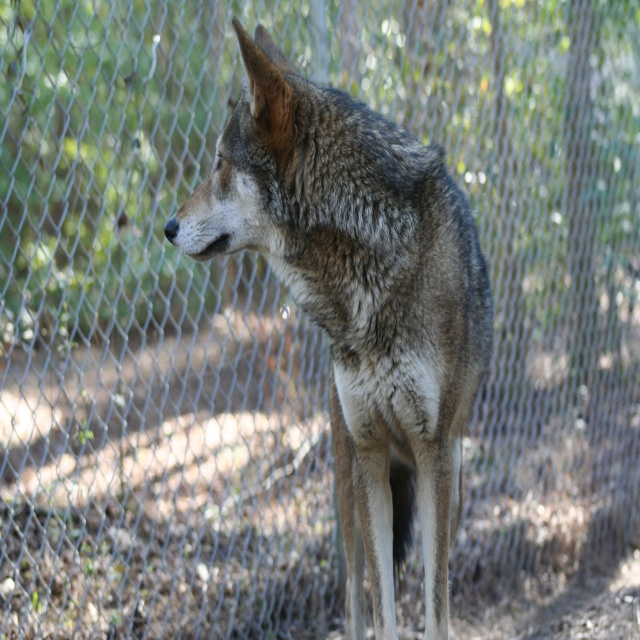Fox: (162, 17, 493, 638)
